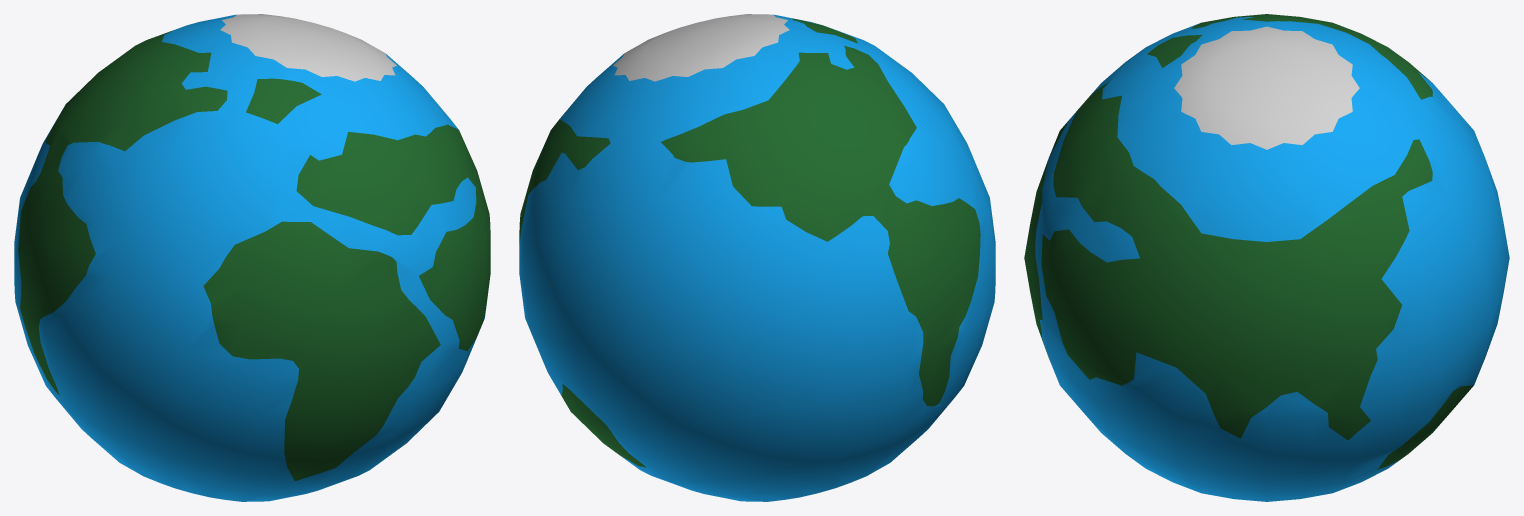
Rendered from GloboTerrestre.gltf.
3 views of the same model, side by side, from view 1: azimuth 30°, elevation 25°; view 2: azimuth 150°, elevation 25°; view 3: azimuth 270°, elevation 25° (orthographic).
Visible parts, largest first — view 1: GloboTerrestre; view 2: GloboTerrestre; view 3: GloboTerrestre.
Boxes of the visible parts, x1,y1,x2,y2 form: GloboTerrestre: (14, 14, 490, 501); GloboTerrestre: (519, 14, 995, 501); GloboTerrestre: (1024, 14, 1509, 501).
Bounding box in the file's own units: 1.09 × 1.1 × 1.09.
Materials: 1 (1 with a texture image).
